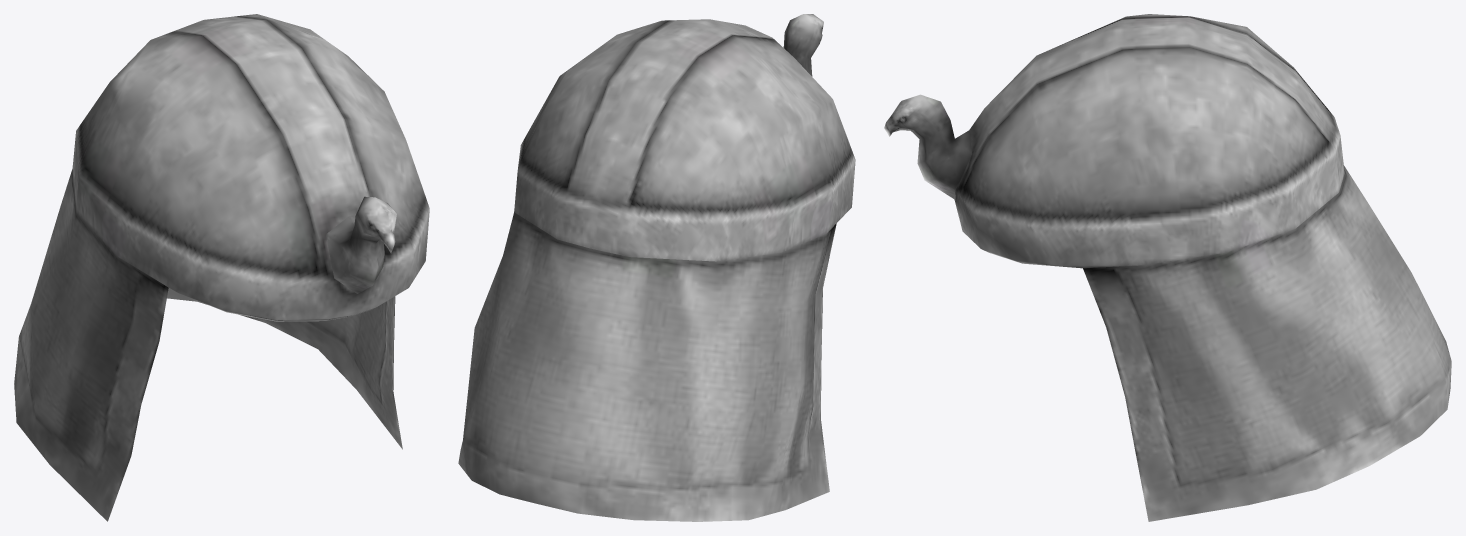
Rendered from helmet-championslingers.glb.
3 views of the same model, side by side, from view 1: azimuth 30°, elevation 25°; view 2: azimuth 150°, elevation 25°; view 3: azimuth 270°, elevation 25° (orthographic). The views are drawn at different scales.
Bounding box in the file's own units: 0.2485 × 0.3443 × 0.4148.
1 material, 1 textured.
